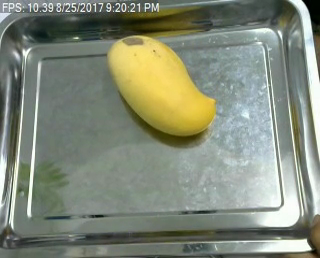Mango: (103, 30, 221, 140)
